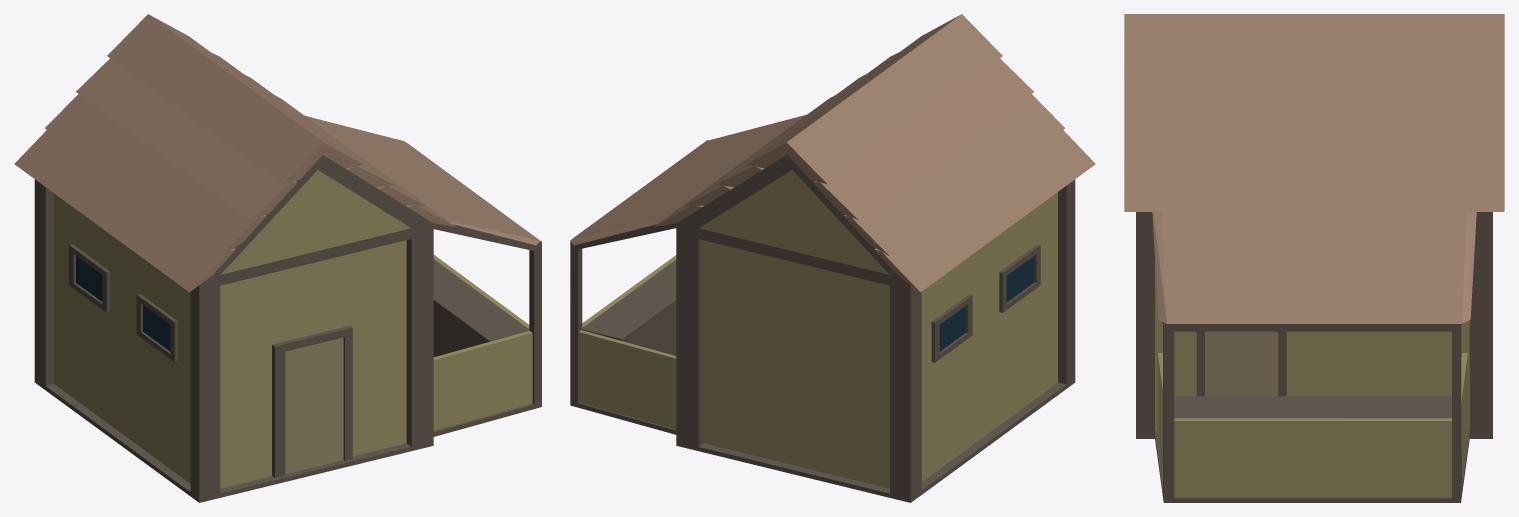
The model's file is BuildingShop.fbx.
3 renders of one model, left to right at view 1: azimuth 30°, elevation 25°; view 2: azimuth 150°, elevation 25°; view 3: azimuth 270°, elevation 25°, orthographic. The views are drawn at different scales.
Parts seen in each view (by area): view 1: Shop; view 2: Shop; view 3: Shop.
Part boxes in pixels (box(x1,y1,x2,y2)): Shop: box(14, 14, 541, 502); Shop: box(570, 14, 1095, 502); Shop: box(1124, 14, 1504, 502).
Size of the model in its own units: 8.67 by 7.5 by 7.11.
